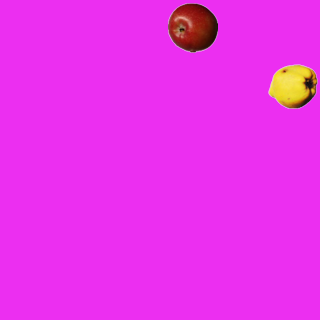Apple Braeburn: (167, 2, 217, 52)
Quince: (267, 61, 317, 111)
